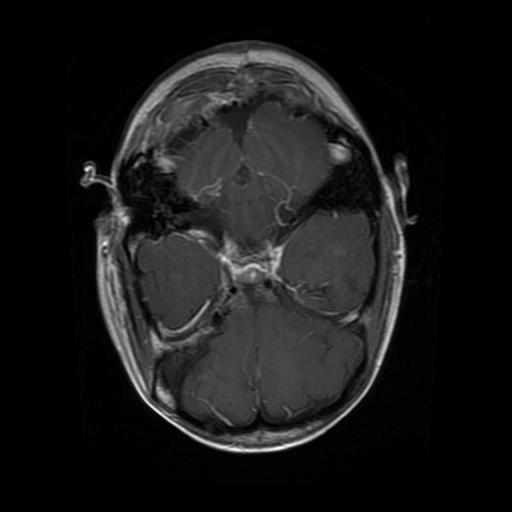Tumour-Glioma: (130, 150, 214, 235)
